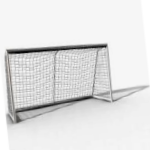goals: (3, 43, 115, 122)
